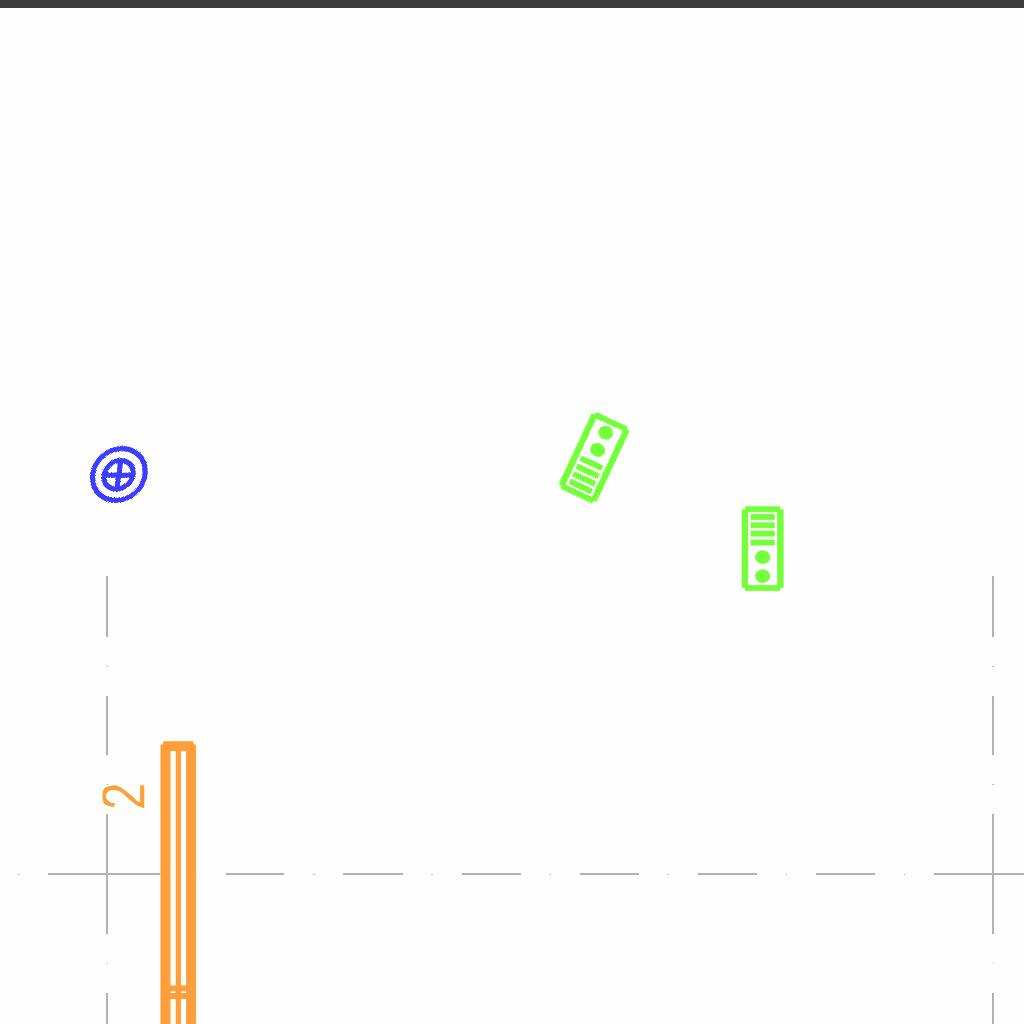Ambulanz_Pendelleuchte_LED: (97, 732, 209, 1024)
Gegensprechanlage_mit_Video: (553, 407, 634, 507), (740, 505, 787, 593)
Taster_beleuchtet: (72, 428, 166, 522)
